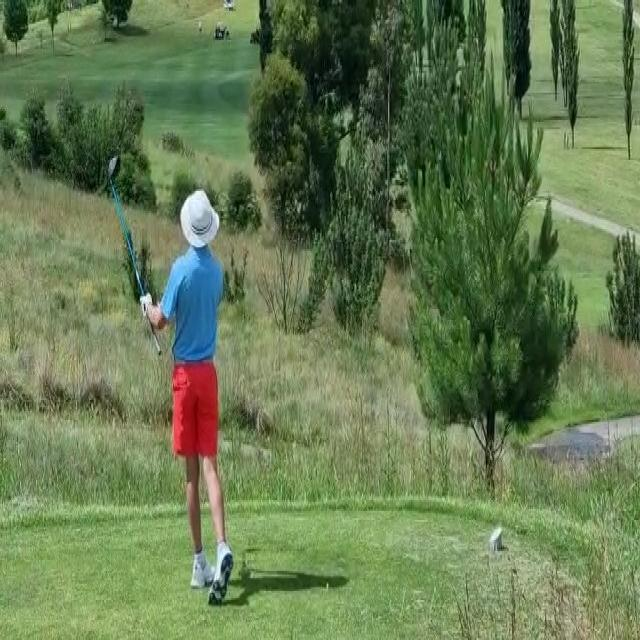club head: (105, 150, 122, 187)
